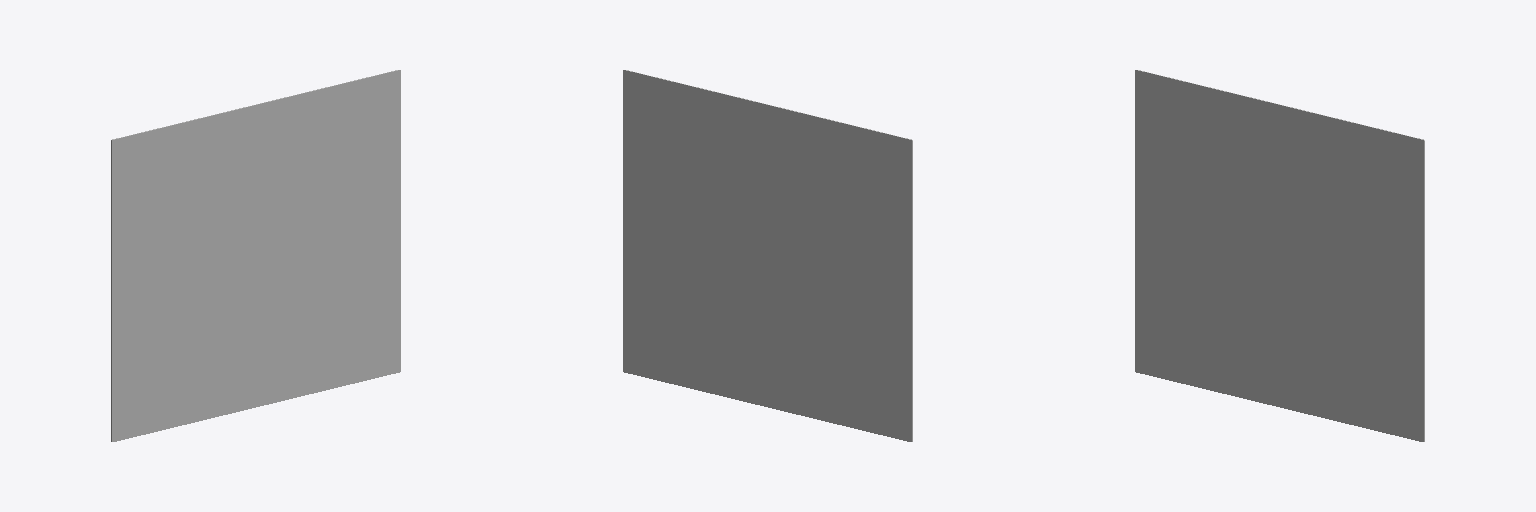
The model's file is blocks-grass-40m.obj.
3 views of the same model, side by side, from view 1: azimuth 30°, elevation 25°; view 2: azimuth 150°, elevation 25°; view 3: azimuth 330°, elevation 25° (orthographic).
Visible parts, largest first — view 1: blocks-grass-40m_Plane.041; view 2: blocks-grass-40m_Plane.041; view 3: blocks-grass-40m_Plane.041.
Part boxes in pixels (bbox=[...]): blocks-grass-40m_Plane.041: bbox=[111, 70, 400, 441]; blocks-grass-40m_Plane.041: bbox=[623, 70, 912, 441]; blocks-grass-40m_Plane.041: bbox=[1135, 70, 1424, 441].
Bounding box in the file's own units: 40 × 40 × 0.15.